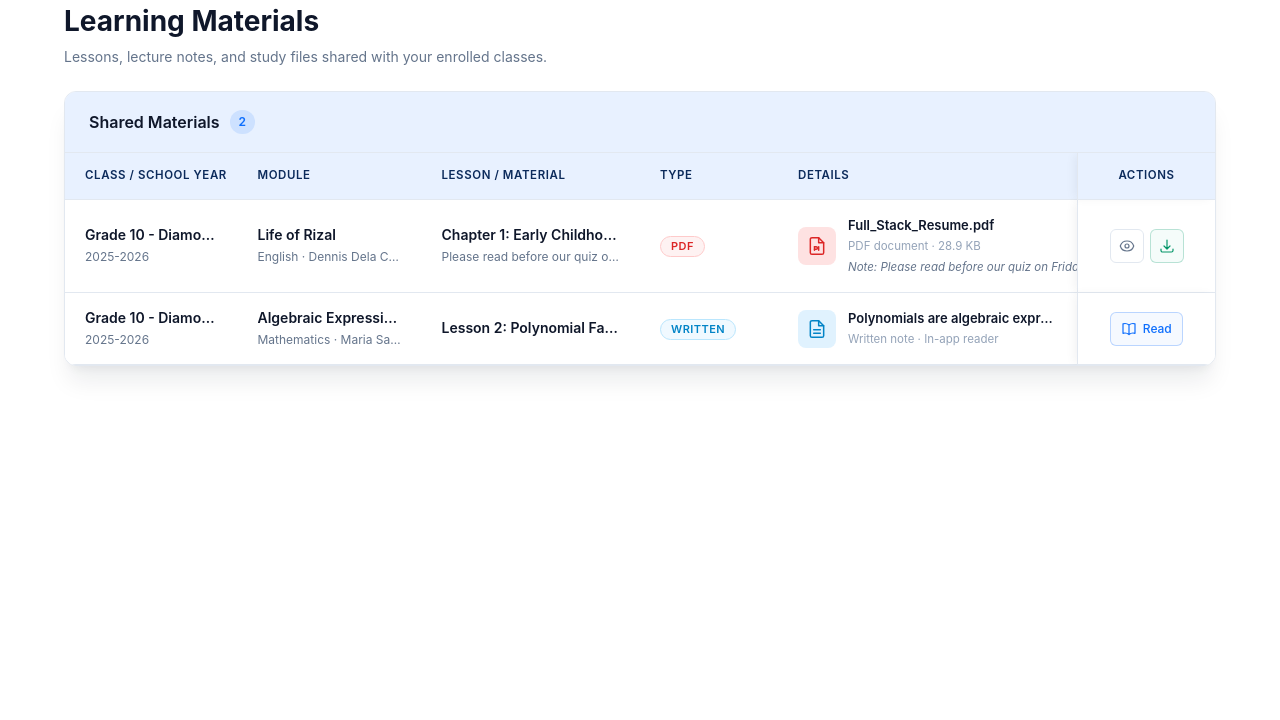
StudentLessonsPage – Learning Materials Table UI › opens the reader modal when clicking Read on a written lesson
Expected: the text "Algebraic Expressions" is shown, [258,309,402,328]
Click the button with aria-label "Read Lesson 2: Polynomial Factoring" at (1146, 329), box [1110,312,1183,346]
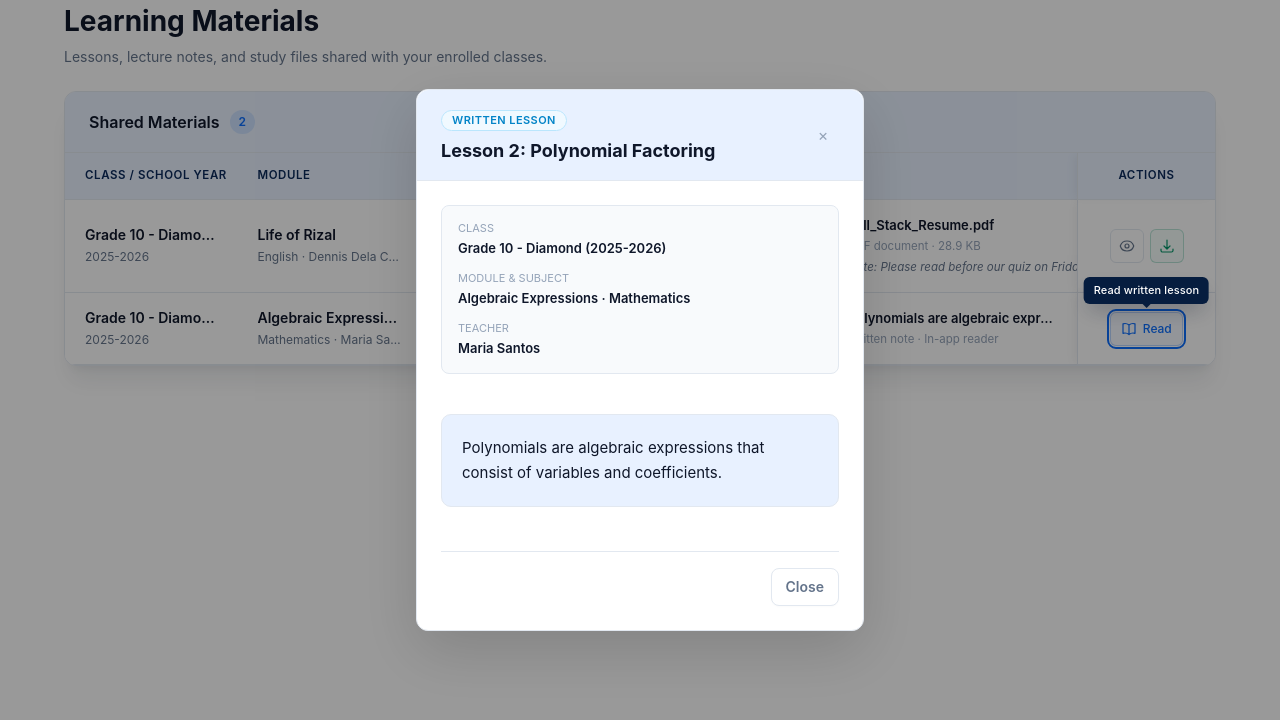
Expected: the text "Polynomials are algebraic expressions that consist of variables and coefficients." is shown, [462,438,769,482]
Note: Close reader modal using close button
Click the button "Close" at (805, 587), box [770,568,839,606]
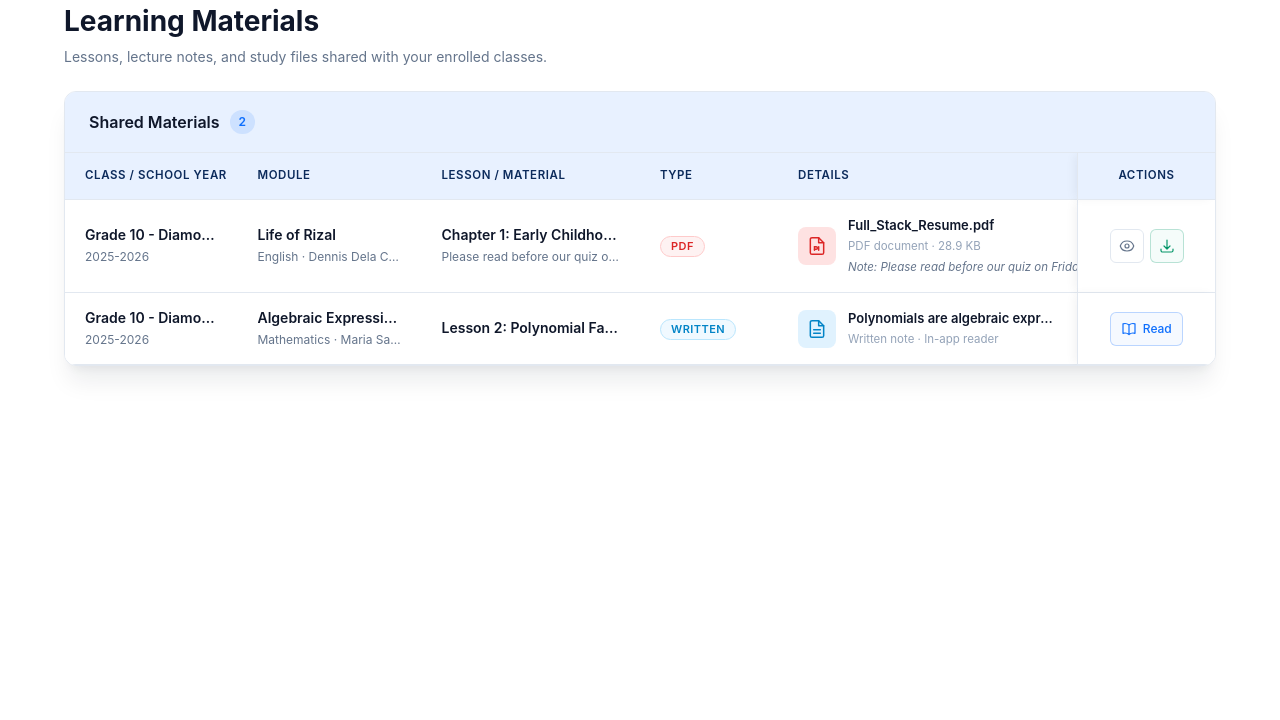
Expected: the dialog is gone
